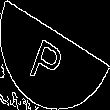P_NE: (34, 24, 76, 86)
